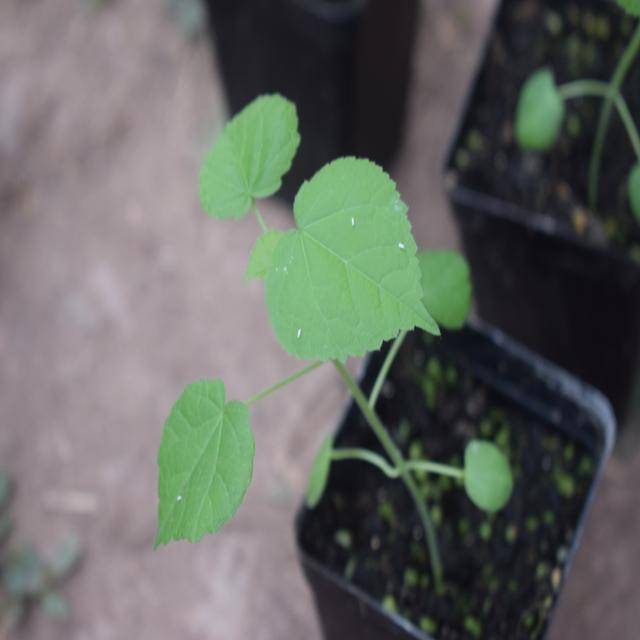abutilon theophrasti: (124, 75, 516, 539)
